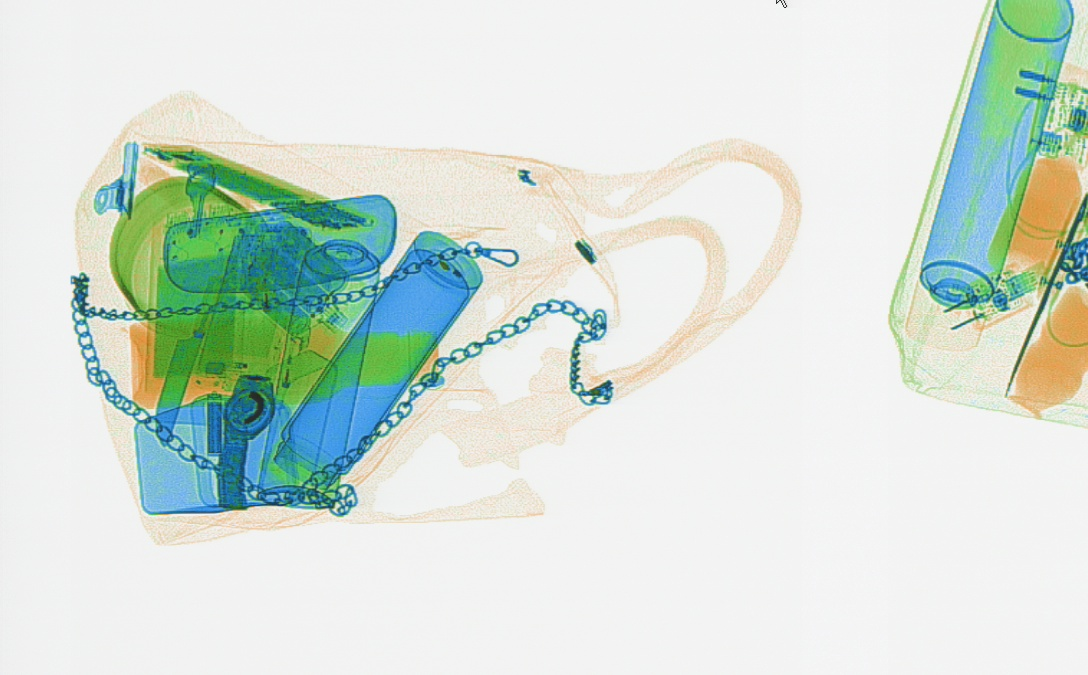knife: (999, 183, 1086, 397), (154, 278, 225, 445)
powerbank: (239, 222, 348, 333)
pressure: (896, 1, 1070, 354), (257, 237, 382, 509)
zippooil: (255, 348, 337, 503)
